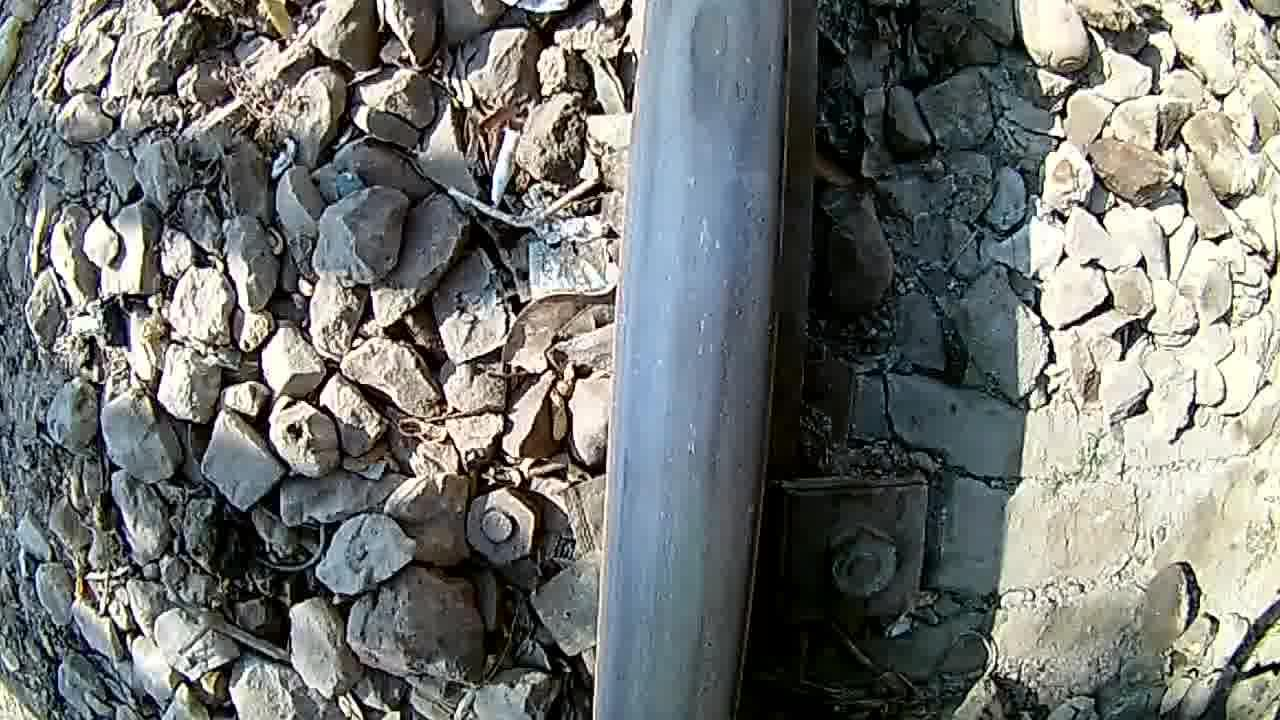bolt_missing: (682, 0, 746, 124)
